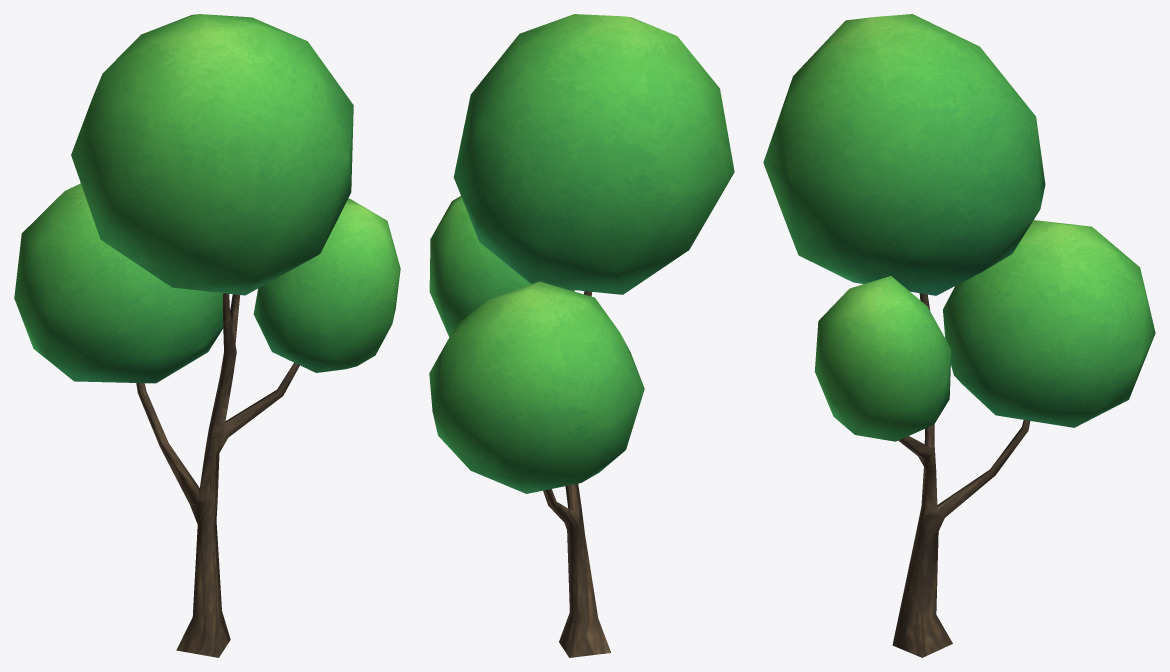
The model's file is Tree_Oak_5.fbx.
3 views of the same model, side by side, from view 1: azimuth 30°, elevation 25°; view 2: azimuth 150°, elevation 25°; view 3: azimuth 270°, elevation 25° (orthographic). The views are drawn at different scales.
Visible parts, largest first — view 1: Icosphere.063, Icosphere.080, Icosphere.079, Cube.083; view 2: Icosphere.063, Icosphere.080, Icosphere.079, Cube.083; view 3: Icosphere.063, Icosphere.080, Icosphere.079, Cube.083.
Part boxes in pixels (x1,y1,x2,y2): Icosphere.063: (71, 14, 353, 295); Icosphere.080: (14, 183, 223, 383); Icosphere.079: (253, 198, 400, 372); Cube.083: (136, 293, 299, 657); Icosphere.063: (453, 14, 734, 294); Icosphere.080: (429, 281, 644, 493); Icosphere.079: (429, 196, 574, 336); Cube.083: (543, 291, 610, 657); Icosphere.063: (763, 14, 1045, 295); Icosphere.080: (943, 220, 1155, 427); Icosphere.079: (814, 276, 951, 441); Cube.083: (892, 293, 1030, 657).
Size of the model in its own units: 360 by 754 by 432.
2 materials, 2 textured.
